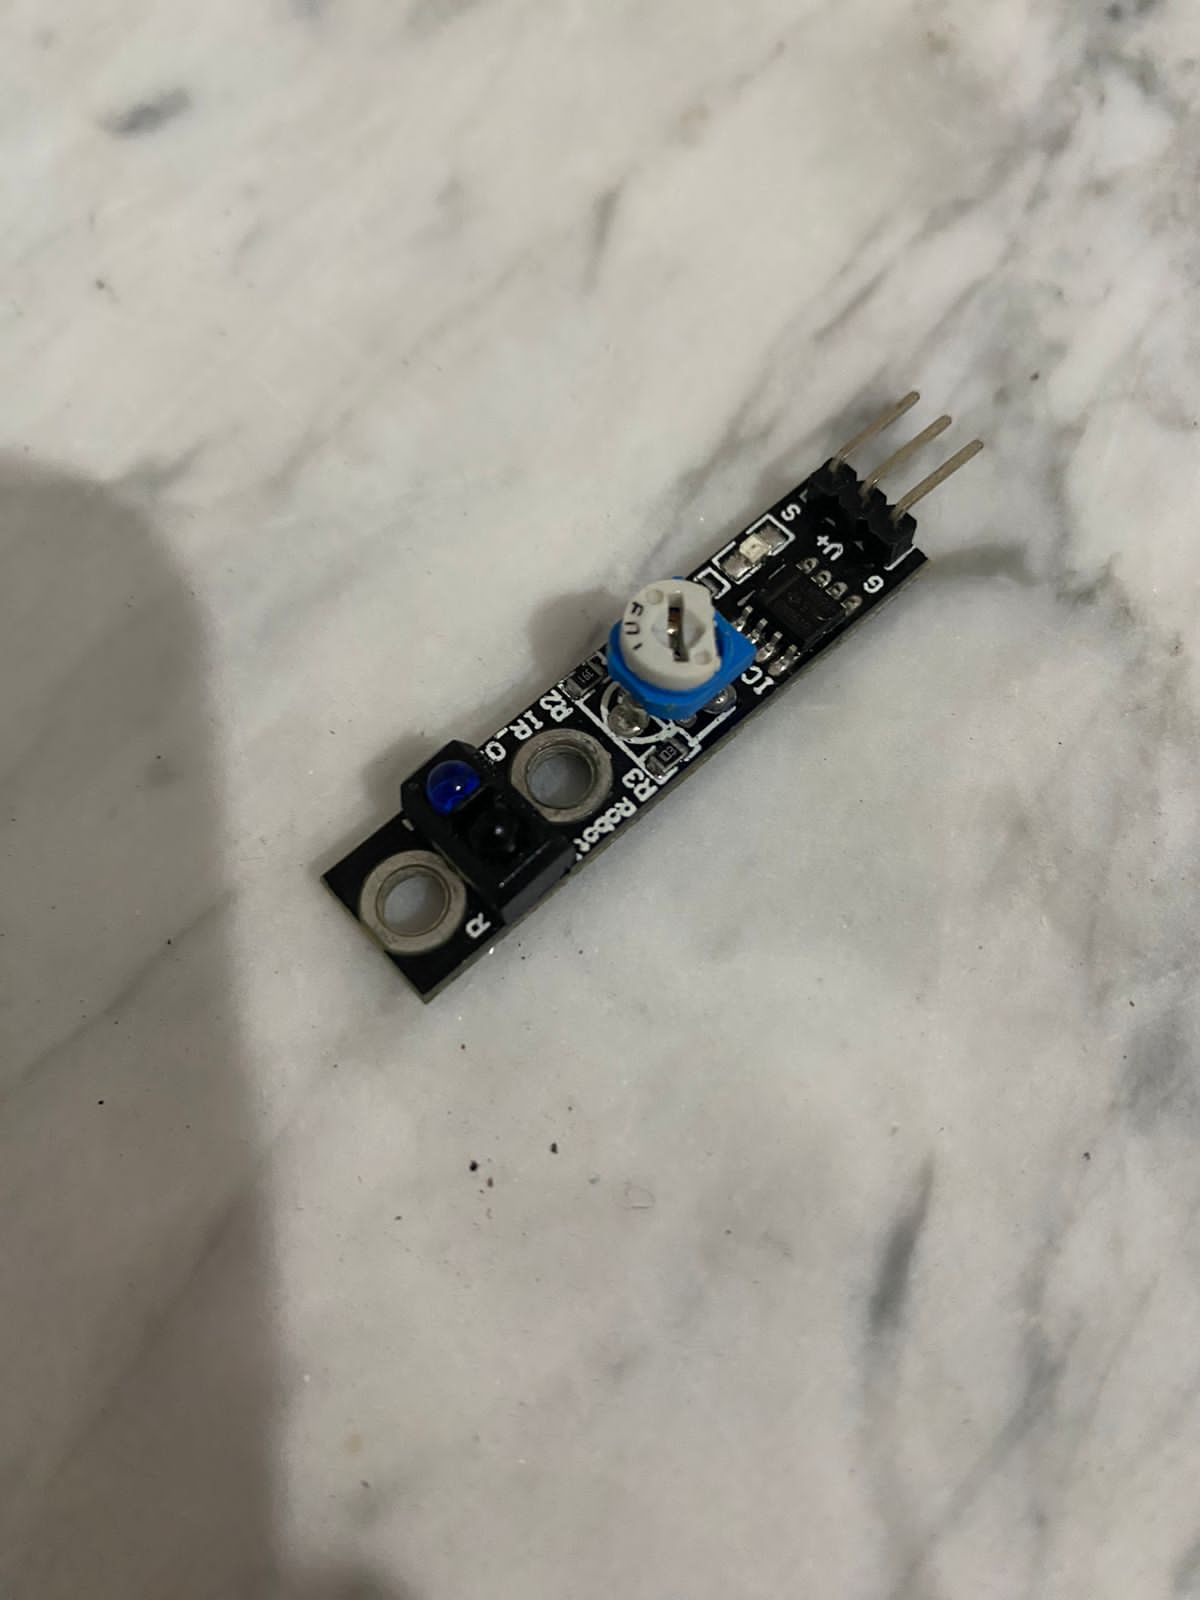ir-sensor: (314, 387, 983, 1022)
